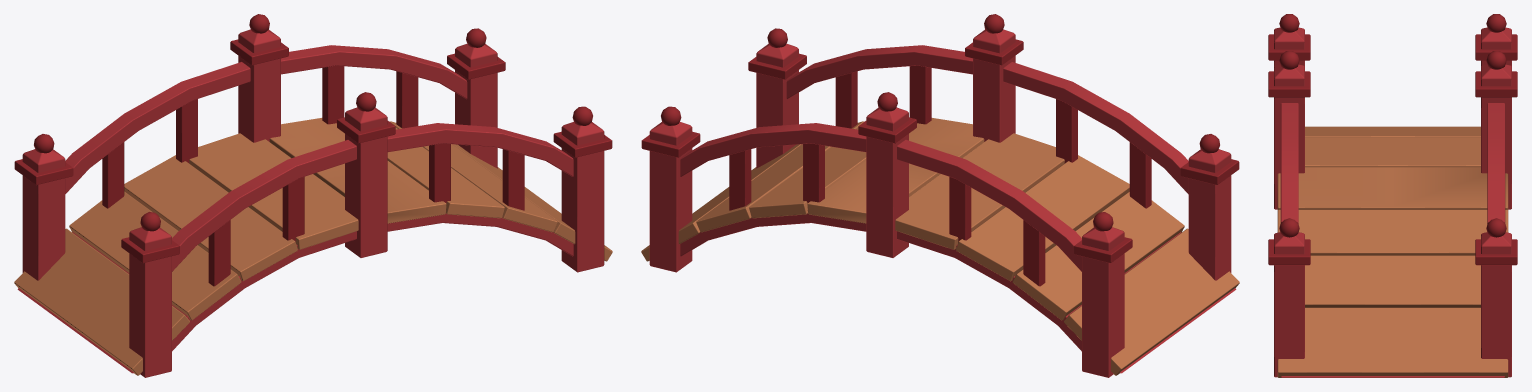
Rendered from Bridge.gltf.
3 renders of one model, left to right at view 1: azimuth 30°, elevation 25°; view 2: azimuth 150°, elevation 25°; view 3: azimuth 270°, elevation 25°, orthographic. The views are drawn at different scales.
Parts seen in each view (by area): view 1: Bridge; view 2: Bridge; view 3: Bridge.
Boxes of the visible parts, box(x1,y1,x2,y2) form: Bridge: box(14, 14, 612, 377); Bridge: box(641, 14, 1239, 377); Bridge: box(1268, 14, 1517, 377).
Size of the model in its own units: 4.61 by 2.05 by 2.13.
1 material, 1 textured.
